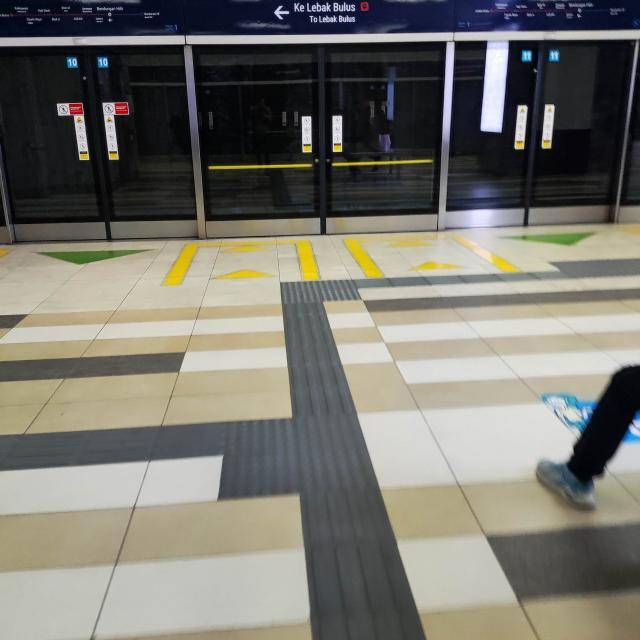kanan: (273, 266, 379, 323)
